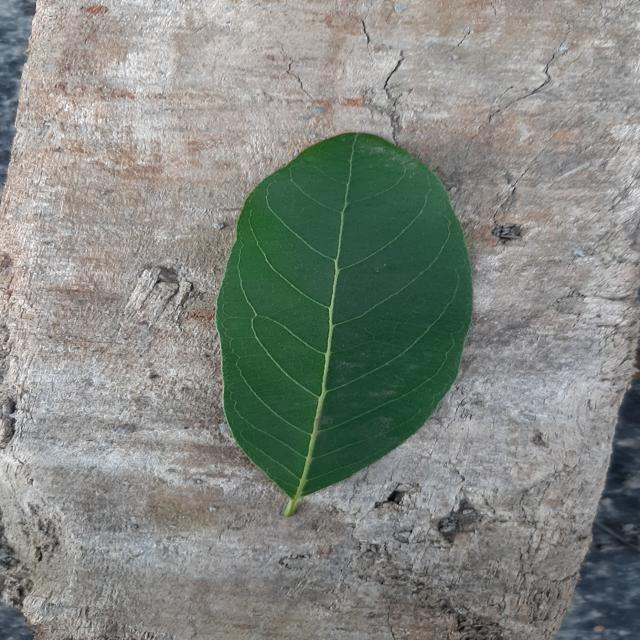seethaphala: (217, 132, 471, 516)
